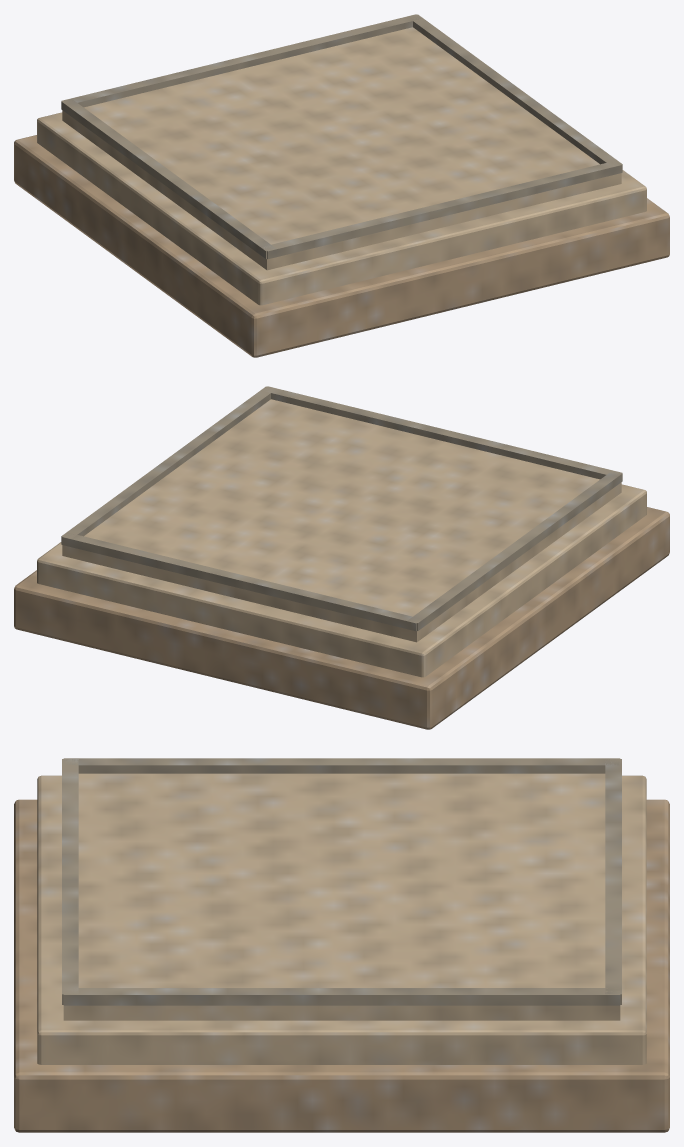
The model's file is slab.glb.
3 renders of one model, top to bottom at view 1: azimuth 30°, elevation 25°; view 2: azimuth 150°, elevation 25°; view 3: azimuth 270°, elevation 25°, orthographic. The views are drawn at different scales.
Parts seen in each view (by area): view 1: Sandwar3D; view 2: Sandwar3D; view 3: Sandwar3D.
Boxes of the visible parts, x1,y1,x2,y2 form: Sandwar3D: [14, 14, 669, 357]; Sandwar3D: [14, 386, 669, 729]; Sandwar3D: [14, 758, 669, 1132].
Bounding box in the file's own units: 0.99 × 0.199 × 0.99.
4 materials, 3 textured.
